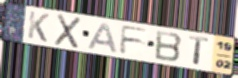A: (85, 21, 120, 55)
B: (154, 29, 184, 64)
F: (118, 24, 151, 56)
K: (26, 9, 51, 44)
T: (188, 35, 211, 68)
X: (53, 12, 83, 50)
